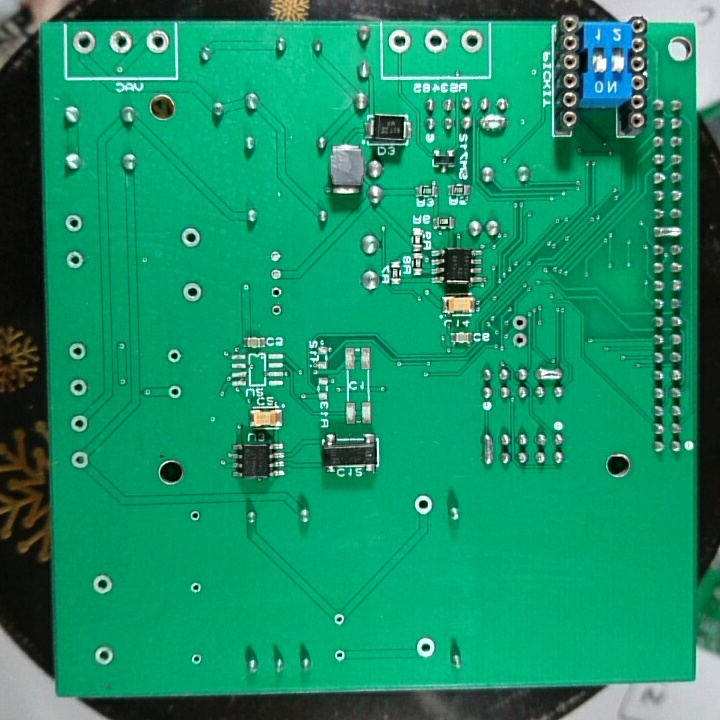F: (105, 29, 137, 57), (386, 27, 414, 58), (71, 28, 99, 58), (422, 27, 451, 55), (457, 26, 486, 53), (411, 633, 439, 660), (144, 29, 171, 55), (179, 280, 205, 305), (92, 642, 117, 668), (412, 493, 435, 518), (179, 225, 202, 249), (91, 573, 114, 596), (62, 212, 85, 234), (64, 249, 86, 271), (67, 340, 89, 361), (68, 449, 91, 469), (68, 376, 88, 398), (68, 413, 90, 433), (331, 647, 350, 666), (165, 347, 183, 366), (511, 331, 530, 349), (511, 313, 529, 331), (166, 383, 183, 401), (268, 301, 286, 318), (268, 247, 285, 264), (268, 283, 285, 300), (188, 580, 205, 597), (188, 652, 205, 669), (268, 267, 285, 282), (331, 612, 348, 627), (188, 508, 203, 525)
P: (478, 112, 509, 135), (651, 223, 685, 242), (480, 429, 494, 469), (535, 364, 565, 382)
